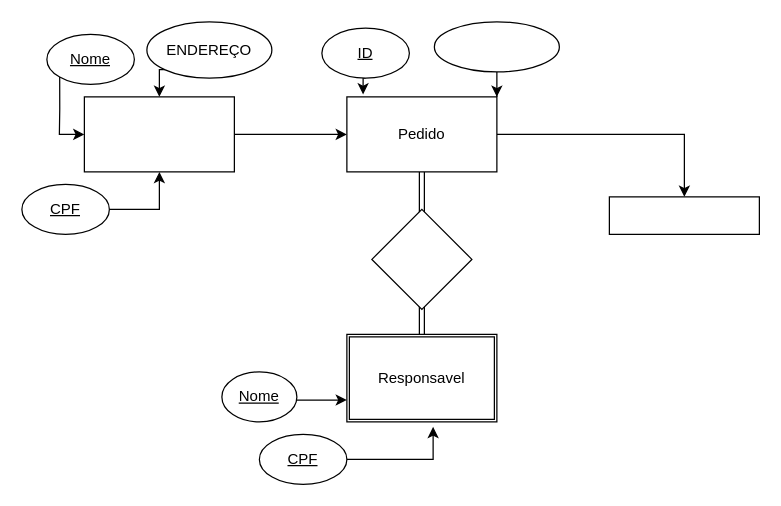
Image size: 781x506. Some labels were removed from this diagram. The shapes that lost their labels are listed below. From the top down, each one's box as (x1, y1, x2, y2) in pixels, then its label:
(433, 21, 559, 72): TIPO
(83, 96, 234, 172): Cliente
(608, 196, 759, 234): Ordem de serviço
(371, 208, 472, 309): Analise
